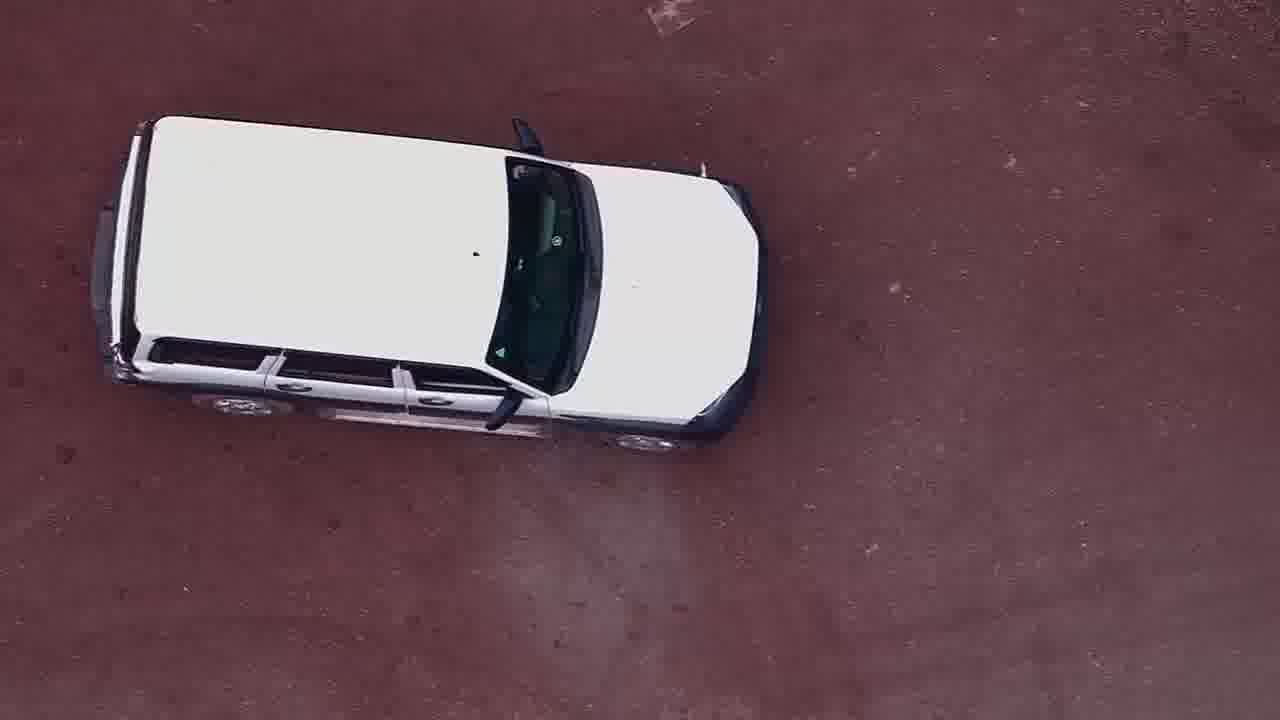light_motor_vehicle: (88, 112, 775, 456)
